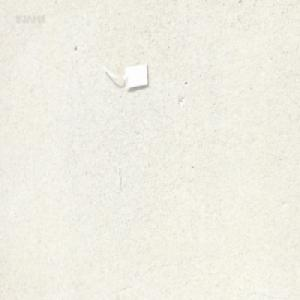LuggageTag: (99, 60, 150, 91)
